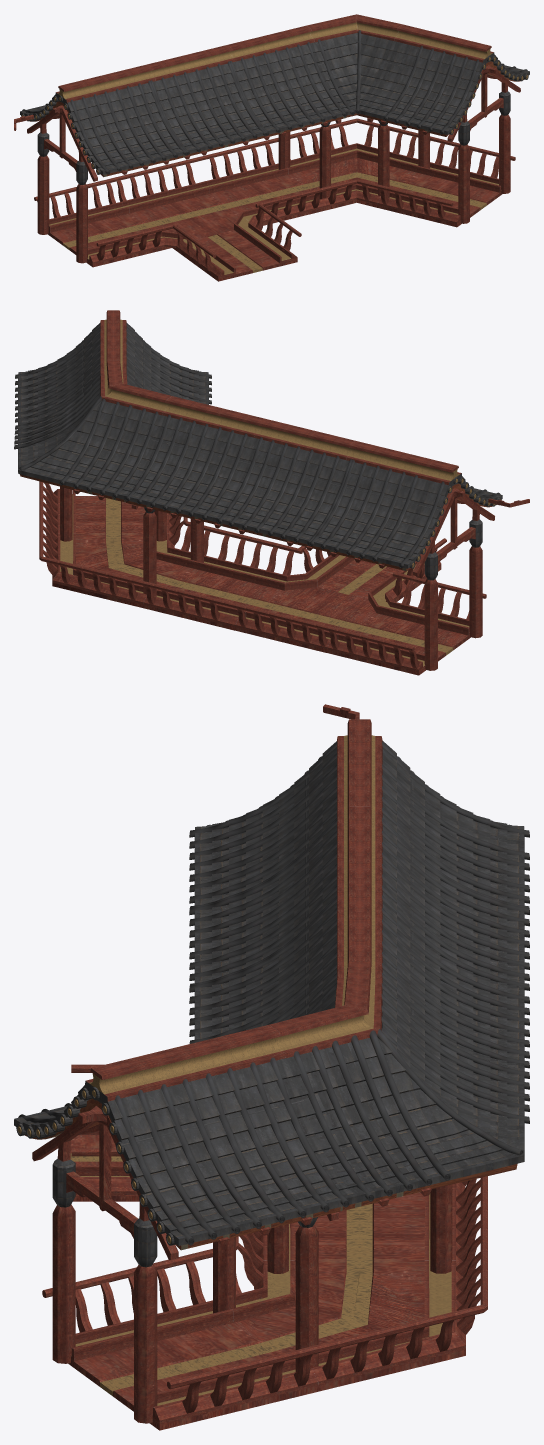
Rendered from pathway.fbx.
3 renders of one model, top to bottom at view 1: azimuth 30°, elevation 25°; view 2: azimuth 150°, elevation 25°; view 3: azimuth 270°, elevation 25°, orthographic. The views are drawn at different scales.
Visible parts, largest first — view 1: polySurface70 (×2), polySurface144 (×2), pCube7 (×7), polySurface17 (×6), floor3 (×3), polySurface124, floor4 (×3), pCube9 (×5), pillar_altType29, pillar_altType30, pillar_altType4, floor10 (+19 smaller); view 2: polySurface70 (×5), polySurface125, polySurface17 (×6), pCube7 (×5), floor4 (×3), floor3 (×3), pillar_altType29, pillar_altType30, pCube9 (×4), floor10, pCube31, floor1 (+14 smaller); view 3: polySurface70 (×5), polySurface125, polySurface17 (×8), polySurface144 (×2), pCube7 (×3), pillar_altType2, pillar_altType4, polySurface77 (×7), polySurface78 (×7), polySurface82 (×7), floor10, polySurface81 (×6) (+33 smaller).
Boxes of the visible parts, x1=… form: polySurface70 (×2): x1=232, y1=41, x2=482, y2=134; polySurface144 (×2): x1=67, y1=61, x2=271, y2=174; pCube7 (×7): x1=48, y1=162, x2=501, y2=263; polySurface17 (×6): x1=55, y1=24, x2=494, y2=103; floor3 (×3): x1=48, y1=175, x2=304, y2=247; polySurface124: x1=315, y1=33, x2=393, y2=114; floor4 (×3): x1=66, y1=187, x2=330, y2=267; pCube9 (×5): x1=96, y1=139, x2=453, y2=246; pillar_altType29: x1=27, y1=105, x2=65, y2=234; pillar_altType30: x1=52, y1=106, x2=97, y2=263; pillar_altType4: x1=447, y1=67, x2=496, y2=223; floor10: x1=289, y1=158, x2=419, y2=187; polySurface70 (×5): x1=18, y1=323, x2=448, y2=568; polySurface125: x1=18, y1=373, x2=161, y2=498; polySurface17 (×6): x1=100, y1=310, x2=461, y2=486; pCube7 (×5): x1=143, y1=555, x2=469, y2=671; floor4 (×3): x1=174, y1=568, x2=470, y2=652; floor3 (×3): x1=143, y1=583, x2=449, y2=675; pillar_altType29: x1=413, y1=489, x2=465, y2=670; pillar_altType30: x1=450, y1=488, x2=494, y2=638; pCube9 (×4): x1=137, y1=527, x2=414, y2=651; floor10: x1=52, y1=540, x2=173, y2=607; pCube31: x1=52, y1=533, x2=146, y2=604; floor1: x1=75, y1=496, x2=113, y2=541; polySurface70 (×5): x1=108, y1=741, x2=524, y2=1245; polySurface125: x1=286, y1=983, x2=524, y2=1202; polySurface17 (×8): x1=85, y1=719, x2=382, y2=1103; polySurface144 (×2): x1=194, y1=741, x2=336, y2=991; pCube7 (×3): x1=71, y1=1183, x2=463, y2=1424; pillar_altType2: x1=80, y1=1110, x2=178, y2=1423; pillar_altType4: x1=32, y1=1106, x2=101, y2=1363; polySurface77 (×7): x1=189, y1=786, x2=529, y2=1223; polySurface78 (×7): x1=182, y1=775, x2=529, y2=1228; polySurface82 (×7): x1=161, y1=764, x2=529, y2=1233; floor10: x1=265, y1=1272, x2=465, y2=1391; polySurface81 (×6): x1=138, y1=753, x2=529, y2=1239.
Bounding box in the file's own units: 15.66 × 5.03 × 7.3.
